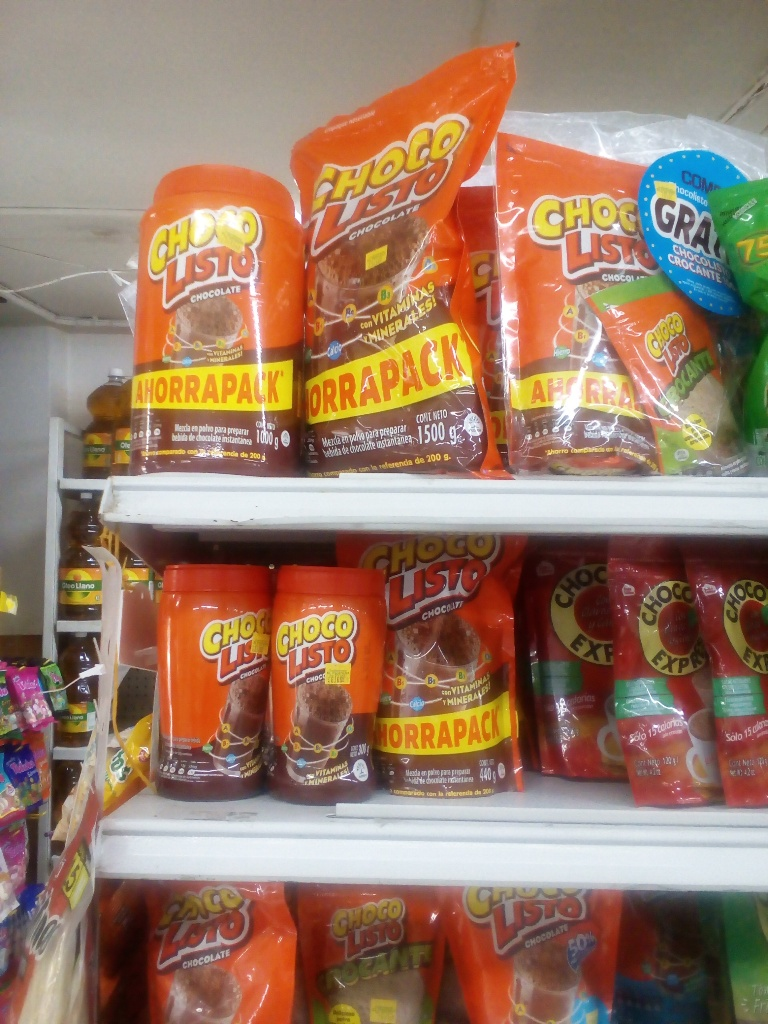COL0170102DYP10000: (578, 272, 760, 474)
COL0170103DYP1,500: (271, 34, 514, 483)
COL0170103DYP44000: (344, 529, 534, 808)
COL0170103TRR00100: (124, 160, 306, 477)
COL0170103TRR30000: (272, 563, 383, 807)
